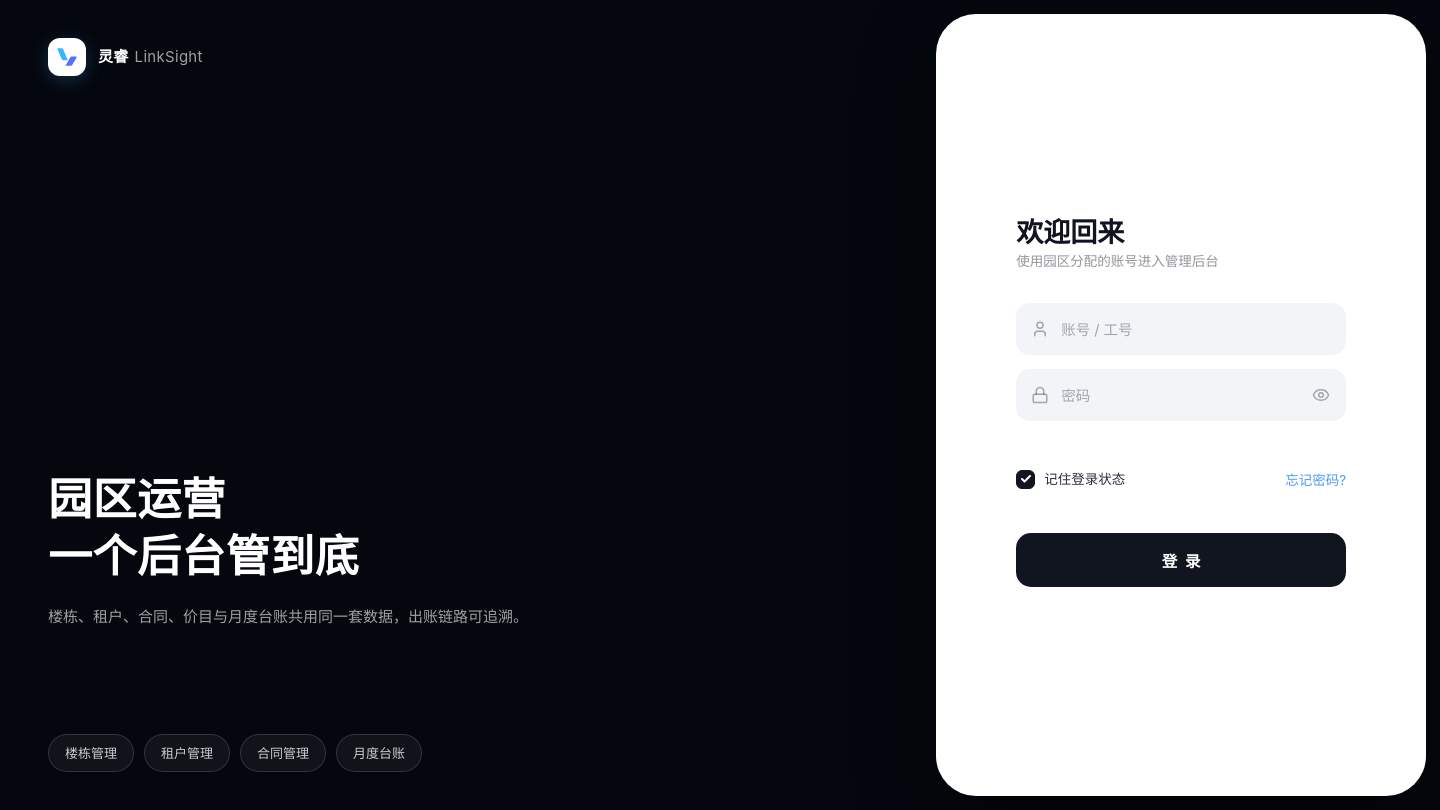
Scenario: C4-02 登录 → 导航两个错误域 › 落地懒块加载失败写自己的话,不冒充密码错误;按钮到那时才复位
Step 1. Type "zhang" into the field with placeholder "账号 / 工号" → (1181,329), box [1016,303,1346,355]
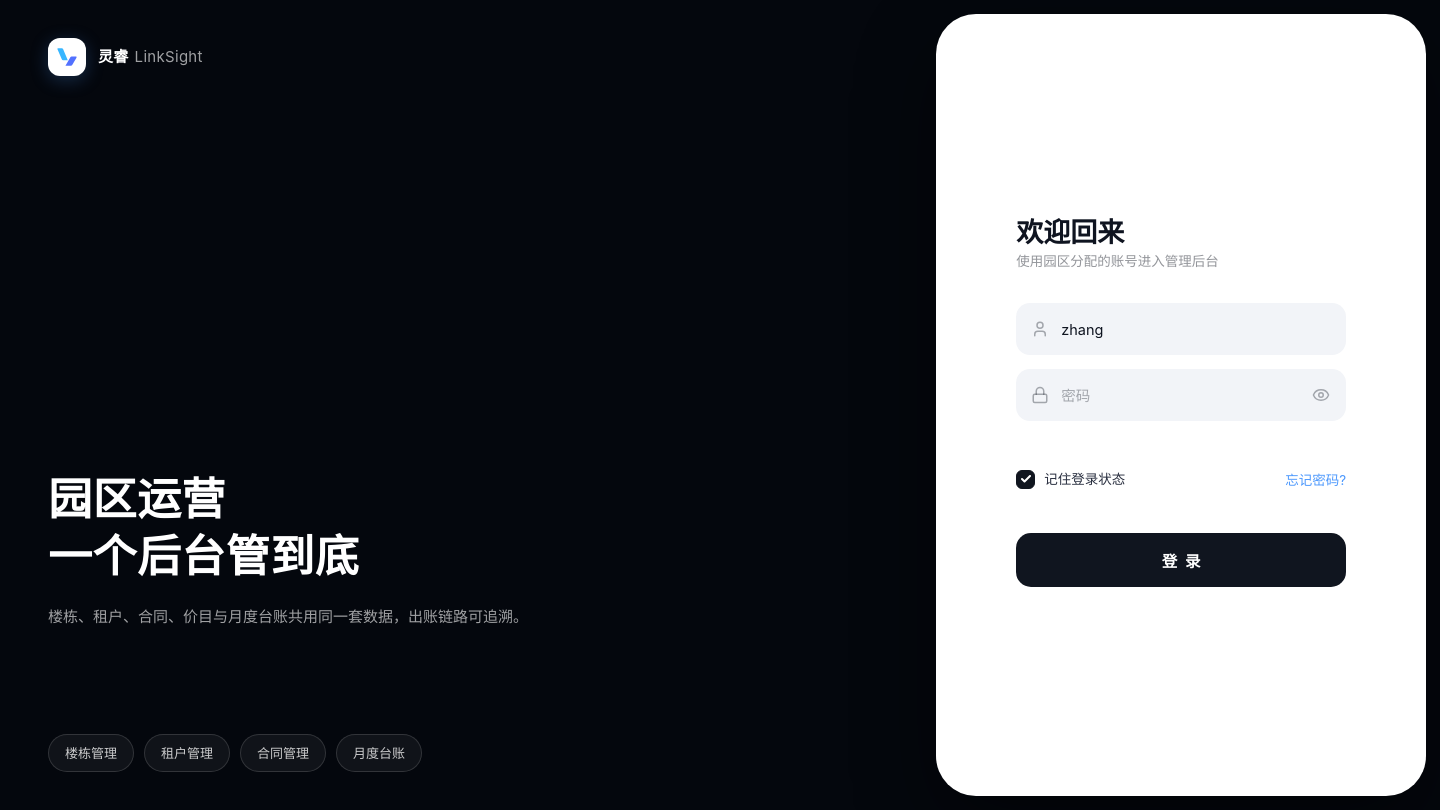
Step 2. Type "pw12345678" into the password field with placeholder "密码" → (1181,395), box [1016,369,1346,421]
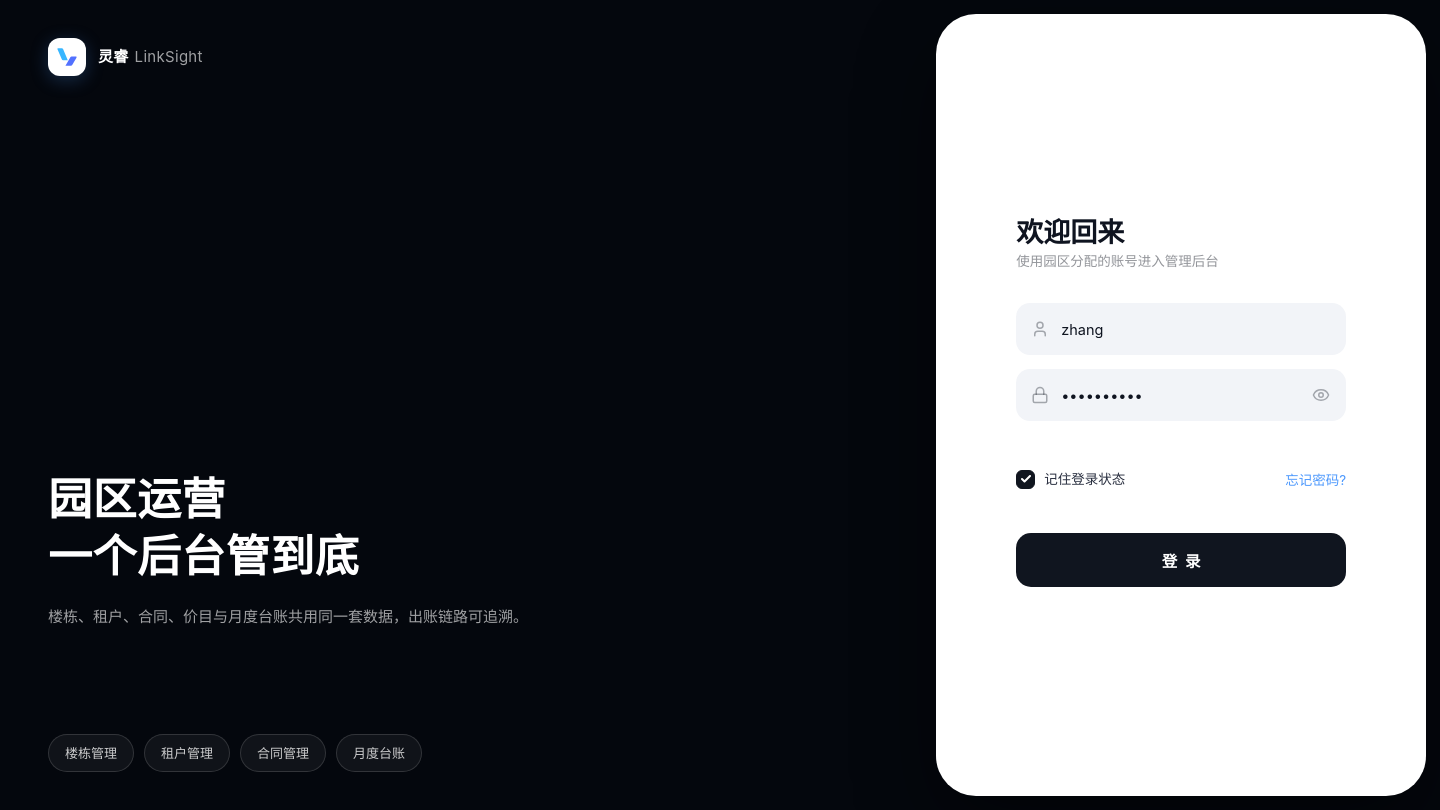
Step 3. Submit the form, box [1016,223,1346,587]
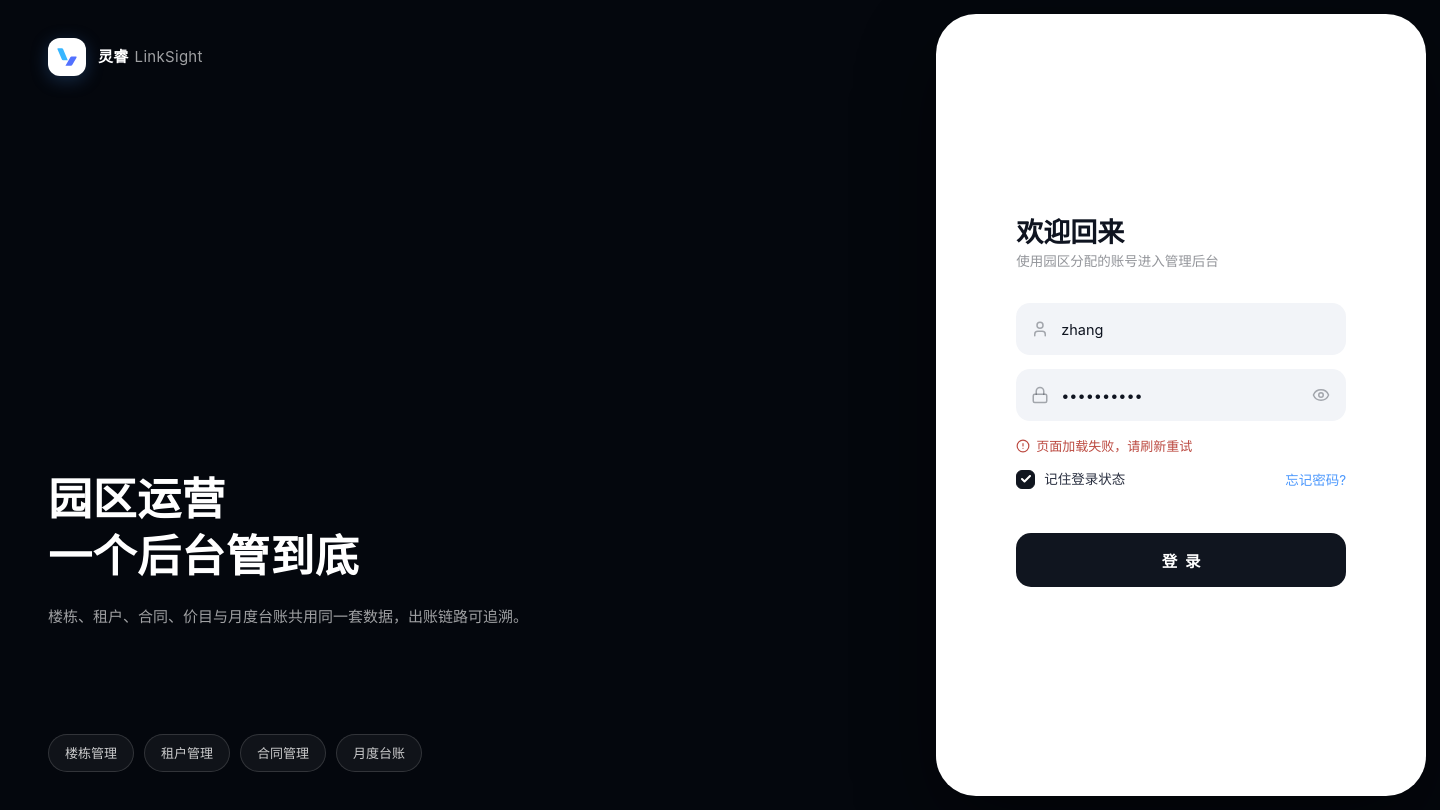
Expected: the button with class "lg-submit" is enabled, [1016,533,1346,587]
Expected: the element with class "lg-err" reads "页面加载失败，请刷新重试", [1036,438,1192,454]
